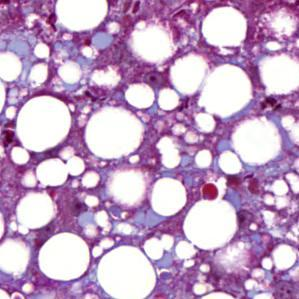steatosis: (11, 98, 73, 150), (42, 233, 91, 284), (149, 173, 188, 218)
